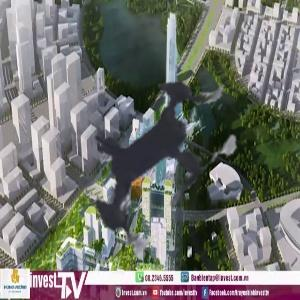drone: (13, 9, 300, 296)
